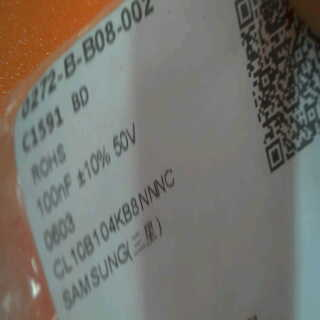100nF: (35, 172, 79, 214)
